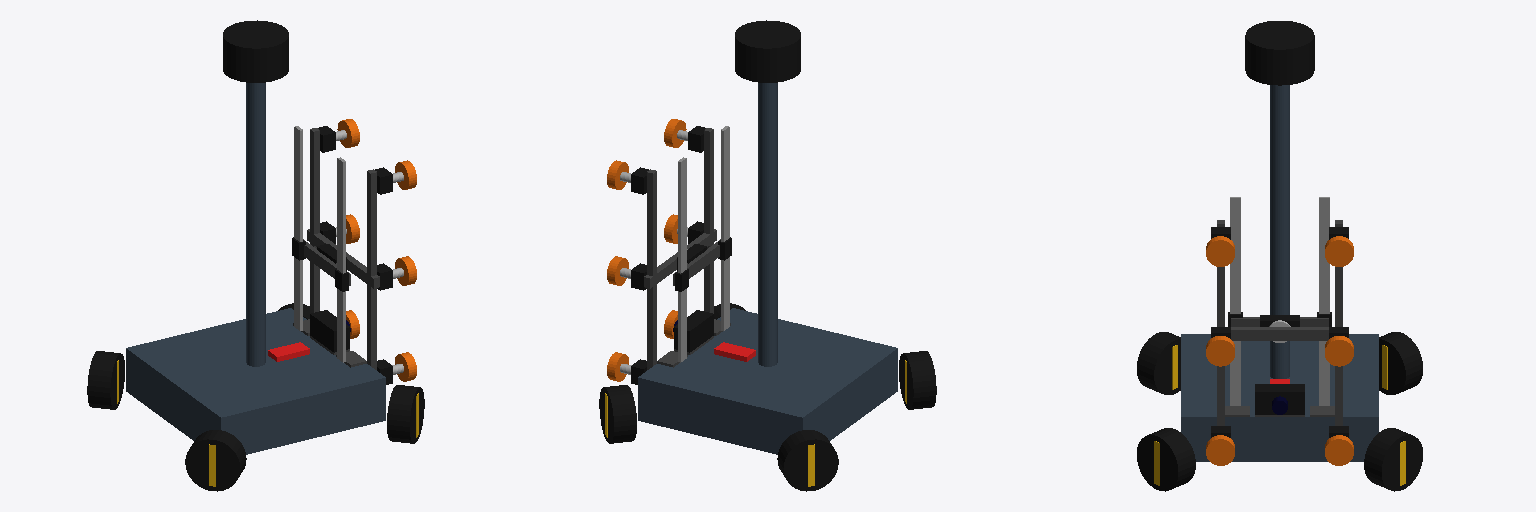
robot.urdf — robot_omni:
<?xml version="1.0"?>
<!-- Généré avec le monde SDF : mêmes noms de liens et d'articulations, mêmes cotes. Ne pas éditer à la main. -->
<robot name="robot_omni">
  <material name="gris"><color rgba="0.25 0.3 0.35 1"/></material>
  <material name="anthracite"><color rgba="0.3 0.3 0.3 1"/></material>
  <material name="noir"><color rgba="0.12 0.12 0.12 1"/></material>
  <material name="rouge"><color rgba="0.9 0.15 0.15 1"/></material>
  <material name="jaune"><color rgba="0.95 0.75 0.1 1"/></material>
  <material name="bleu_objectif"><color rgba="0.05 0.05 0.2 1"/></material>
  <material name="alu"><color rgba="0.6 0.6 0.6 1"/></material>
  <material name="gris_clair"><color rgba="0.7 0.7 0.7 1"/></material>
  <material name="orange"><color rgba="0.9 0.45 0.1 1"/></material>

  <!-- base_link : centre du robot au niveau du sol, x vers l'avant, y vers la gauche -->
  <link name="base_link"/>

  <link name="chassis">
    <visual><geometry><box size="0.2 0.2 0.05"/></geometry><material name="gris"/></visual>
    <visual><origin xyz="0.04 0 0.028"/><geometry><box size="0.04 0.02 0.006"/></geometry><material name="rouge"/></visual>
    <visual><origin xyz="0 0 0.205"/><geometry><cylinder radius="0.01" length="0.36"/></geometry><material name="gris"/></visual>
    <!-- Support caméra (plaque 3 mm) et boîtier posé dessus, au ras du châssis -->
    <visual><origin xyz="0.09 0 0.0265"/><geometry><box size="0.02 0.05 0.003"/></geometry><material name="anthracite"/></visual>
    <visual><origin xyz="0.09 0 0.0405"/><geometry><box size="0.02 0.05 0.025"/></geometry><material name="noir"/></visual>
    <visual><origin xyz="0.105 0 0.0405" rpy="0 1.5708 0"/><geometry><cylinder radius="0.008" length="0.01"/></geometry><material name="bleu_objectif"/></visual>
    <!-- Supports et rails verticaux de l'ascenseur (rails allongés : course 0 à 12 cm) -->
    <visual><origin xyz="0.09 0.045 0.0265"/><geometry><box size="0.02 0.03 0.003"/></geometry><material name="anthracite"/></visual>
    <visual><origin xyz="0.078 0.045 0.144"/><geometry><box size="0.004 0.012 0.232"/></geometry><material name="alu"/></visual>
    <visual><origin xyz="0.09 -0.045 0.0265"/><geometry><box size="0.02 0.03 0.003"/></geometry><material name="anthracite"/></visual>
    <visual><origin xyz="0.078 -0.045 0.144"/><geometry><box size="0.004 0.012 0.232"/></geometry><material name="alu"/></visual>
    <collision><geometry><box size="0.2 0.2 0.05"/></geometry></collision>
    <collision><origin xyz="0.09 0 0.039"/><geometry><box size="0.02 0.05 0.028"/></geometry></collision>
    <inertial><mass value="3"/><inertia ixx="0.010625" ixy="0" ixz="0" iyy="0.010625" iyz="0" izz="0.02"/></inertial>
  </link>
  <joint name="chassis_joint" type="fixed"><parent link="base_link"/><child link="chassis"/><origin xyz="0 0 0.045"/></joint>

  <!-- Ascenseur : chariot sur les rails + servo du poignet (repère = repère du châssis) -->
  <link name="ascenseur">
    <visual><origin xyz="0.078 0.045 0.121"/><geometry><box size="0.008 0.016 0.02"/></geometry><material name="noir"/></visual>
    <visual><origin xyz="0.078 -0.045 0.121"/><geometry><box size="0.008 0.016 0.02"/></geometry><material name="noir"/></visual>
    <visual><origin xyz="0.083 0 0.121"/><geometry><box size="0.006 0.1 0.014"/></geometry><material name="anthracite"/></visual>
    <visual><origin xyz="0.092 0 0.121"/><geometry><box size="0.014 0.04 0.022"/></geometry><material name="noir"/></visual>
    <inertial><origin xyz="0.088 0 0.121"/><mass value="0.2"/><inertia ixx="0.0002" ixy="0" ixz="0" iyy="0.0001" iyz="0" izz="0.0002"/></inertial>
  </link>
  <joint name="ascenseur_joint" type="prismatic"><parent link="chassis"/><child link="ascenseur"/><origin xyz="0 0 0"/><axis xyz="0 0 1"/><limit lower="0" upper="0.12" effort="50" velocity="0.1"/></joint>

  <!-- Poignet : plaque à 3 paires de ventouses (une par carton), tournée de 0 à 90° autour de l'axe avant du robot.
       Origine du lien = axe de rotation, au centre du carton du milieu (16.6 cm du sol, ascenseur en bas). -->
  <link name="poignet">
    <visual><origin xyz="-0.005 0 0" rpy="0 1.5708 0"/><geometry><cylinder radius="0.012" length="0.004"/></geometry><material name="gris_clair"/></visual>
    <visual><origin xyz="0 0 0"/><geometry><box size="0.008 0.14 0.012"/></geometry><material name="anthracite"/></visual>
    <visual><origin xyz="0 0.06 0"/><geometry><box size="0.008 0.008 0.25"/></geometry><material name="anthracite"/></visual>
    <visual><origin xyz="0 -0.06 0"/><geometry><box size="0.008 0.008 0.25"/></geometry><material name="anthracite"/></visual>
    <!-- Étage 1 : ventouse_1_g / ventouse_1_d -->
    <visual><origin xyz="0.012 0.06 -0.111"/><geometry><box size="0.016 0.02 0.02"/></geometry><material name="noir"/></visual>
    <visual><origin xyz="0.028 0.06 -0.111" rpy="0 1.5708 0"/><geometry><cylinder radius="0.005" length="0.016"/></geometry><material name="gris_clair"/></visual>
    <visual><origin xyz="0.041 0.06 -0.111" rpy="0 1.5708 0"/><geometry><cylinder radius="0.015" length="0.01"/></geometry><material name="orange"/></visual>
    <visual><origin xyz="0.012 -0.06 -0.111"/><geometry><box size="0.016 0.02 0.02"/></geometry><material name="noir"/></visual>
    <visual><origin xyz="0.028 -0.06 -0.111" rpy="0 1.5708 0"/><geometry><cylinder radius="0.005" length="0.016"/></geometry><material name="gris_clair"/></visual>
    <visual><origin xyz="0.041 -0.06 -0.111" rpy="0 1.5708 0"/><geometry><cylinder radius="0.015" length="0.01"/></geometry><material name="orange"/></visual>
    <!-- Étage 2 : ventouse_2_g / ventouse_2_d -->
    <visual><origin xyz="0.012 0.06 0"/><geometry><box size="0.016 0.02 0.02"/></geometry><material name="noir"/></visual>
    <visual><origin xyz="0.028 0.06 0" rpy="0 1.5708 0"/><geometry><cylinder radius="0.005" length="0.016"/></geometry><material name="gris_clair"/></visual>
    <visual><origin xyz="0.041 0.06 0" rpy="0 1.5708 0"/><geometry><cylinder radius="0.015" length="0.01"/></geometry><material name="orange"/></visual>
    <visual><origin xyz="0.012 -0.06 0"/><geometry><box size="0.016 0.02 0.02"/></geometry><material name="noir"/></visual>
    <visual><origin xyz="0.028 -0.06 0" rpy="0 1.5708 0"/><geometry><cylinder radius="0.005" length="0.016"/></geometry><material name="gris_clair"/></visual>
    <visual><origin xyz="0.041 -0.06 0" rpy="0 1.5708 0"/><geometry><cylinder radius="0.015" length="0.01"/></geometry><material name="orange"/></visual>
    <!-- Étage 3 : ventouse_3_g / ventouse_3_d -->
    <visual><origin xyz="0.012 0.06 0.111"/><geometry><box size="0.016 0.02 0.02"/></geometry><material name="noir"/></visual>
    <visual><origin xyz="0.028 0.06 0.111" rpy="0 1.5708 0"/><geometry><cylinder radius="0.005" length="0.016"/></geometry><material name="gris_clair"/></visual>
    <visual><origin xyz="0.041 0.06 0.111" rpy="0 1.5708 0"/><geometry><cylinder radius="0.015" length="0.01"/></geometry><material name="orange"/></visual>
    <visual><origin xyz="0.012 -0.06 0.111"/><geometry><box size="0.016 0.02 0.02"/></geometry><material name="noir"/></visual>
    <visual><origin xyz="0.028 -0.06 0.111" rpy="0 1.5708 0"/><geometry><cylinder radius="0.005" length="0.016"/></geometry><material name="gris_clair"/></visual>
    <visual><origin xyz="0.041 -0.06 0.111" rpy="0 1.5708 0"/><geometry><cylinder radius="0.015" length="0.01"/></geometry><material name="orange"/></visual>
    <collision><origin xyz="0.041 0.06 -0.111" rpy="0 1.5708 0"/><geometry><cylinder radius="0.015" length="0.01"/></geometry></collision>
    <collision><origin xyz="0.041 -0.06 -0.111" rpy="0 1.5708 0"/><geometry><cylinder radius="0.015" length="0.01"/></geometry></collision>
    <collision><origin xyz="0.041 0.06 0" rpy="0 1.5708 0"/><geometry><cylinder radius="0.015" length="0.01"/></geometry></collision>
    <collision><origin xyz="0.041 -0.06 0" rpy="0 1.5708 0"/><geometry><cylinder radius="0.015" length="0.01"/></geometry></collision>
    <collision><origin xyz="0.041 0.06 0.111" rpy="0 1.5708 0"/><geometry><cylinder radius="0.015" length="0.01"/></geometry></collision>
    <collision><origin xyz="0.041 -0.06 0.111" rpy="0 1.5708 0"/><geometry><cylinder radius="0.015" length="0.01"/></geometry></collision>
    <inertial><origin xyz="0.024 0 0"/><mass value="0.15"/><inertia ixx="0.0008" ixy="0" ixz="0" iyy="0.0008" iyz="0" izz="0.0002"/></inertial>
  </link>
  <joint name="poignet_joint" type="revolute"><parent link="ascenseur"/><child link="poignet"/><origin xyz="0.106 0 0.121"/><axis xyz="1 0 0"/><limit lower="0" upper="1.5708" effort="5" velocity="2"/></joint>

  <link name="roue_1"><visual><geometry><cylinder radius="0.03" length="0.025"/></geometry><material name="noir"/></visual><visual><geometry><box size="0.048 0.008 0.02625"/></geometry><material name="jaune"/></visual><collision><geometry><cylinder radius="0.03" length="0.025"/></geometry></collision><inertial><mass value="0.1"/><inertia ixx="2.77083e-05" ixy="0" ixz="0" iyy="2.77083e-05" iyz="0" izz="4.5e-05"/></inertial></link>
  <joint name="roue_1_joint" type="continuous"><parent link="base_link"/><child link="roue_1"/><origin xyz="0.115 0.115 0.03" rpy="0 1.5708 0.785398"/><axis xyz="0 0 -1"/></joint>

  <link name="roue_2"><visual><geometry><cylinder radius="0.03" length="0.025"/></geometry><material name="noir"/></visual><visual><geometry><box size="0.048 0.008 0.02625"/></geometry><material name="jaune"/></visual><collision><geometry><cylinder radius="0.03" length="0.025"/></geometry></collision><inertial><mass value="0.1"/><inertia ixx="2.77083e-05" ixy="0" ixz="0" iyy="2.77083e-05" iyz="0" izz="4.5e-05"/></inertial></link>
  <joint name="roue_2_joint" type="continuous"><parent link="base_link"/><child link="roue_2"/><origin xyz="-0.115 0.115 0.03" rpy="0 1.5708 2.35619"/><axis xyz="0 0 -1"/></joint>

  <link name="roue_3"><visual><geometry><cylinder radius="0.03" length="0.025"/></geometry><material name="noir"/></visual><visual><geometry><box size="0.048 0.008 0.02625"/></geometry><material name="jaune"/></visual><collision><geometry><cylinder radius="0.03" length="0.025"/></geometry></collision><inertial><mass value="0.1"/><inertia ixx="2.77083e-05" ixy="0" ixz="0" iyy="2.77083e-05" iyz="0" izz="4.5e-05"/></inertial></link>
  <joint name="roue_3_joint" type="continuous"><parent link="base_link"/><child link="roue_3"/><origin xyz="-0.115 -0.115 0.03" rpy="0 1.5708 3.92699"/><axis xyz="0 0 -1"/></joint>

  <link name="roue_4"><visual><geometry><cylinder radius="0.03" length="0.025"/></geometry><material name="noir"/></visual><visual><geometry><box size="0.048 0.008 0.02625"/></geometry><material name="jaune"/></visual><collision><geometry><cylinder radius="0.03" length="0.025"/></geometry></collision><inertial><mass value="0.1"/><inertia ixx="2.77083e-05" ixy="0" ixz="0" iyy="2.77083e-05" iyz="0" izz="4.5e-05"/></inertial></link>
  <joint name="roue_4_joint" type="continuous"><parent link="base_link"/><child link="roue_4"/><origin xyz="0.115 -0.115 0.03" rpy="0 1.5708 5.49779"/><axis xyz="0 0 -1"/></joint>

  <link name="lidar"><visual><geometry><cylinder radius="0.035" length="0.04"/></geometry><material name="noir"/></visual></link>
  <joint name="lidar_joint" type="fixed"><parent link="base_link"/><child link="lidar"/><origin xyz="0 0 0.43"/></joint>

  <link name="imu"/>
  <joint name="imu_joint" type="fixed"><parent link="base_link"/><child link="imu"/><origin xyz="0 0 0.045"/></joint>

  <link name="camera"/>
  <joint name="camera_joint" type="fixed"><parent link="base_link"/><child link="camera"/><origin xyz="0.11 0 0.0855" rpy="0 0 0"/></joint>

  <link name="camera_optical"/>
  <joint name="camera_optical_joint" type="fixed"><parent link="camera"/><child link="camera_optical"/><origin xyz="0 0 0" rpy="-1.5708 0 -1.5708"/></joint>

</robot>

--- Facts derived from the render (not from the file) ---
Views: 3 orthographic renders of the robot side by side, from view 1: azimuth 30°, elevation 25°; view 2: azimuth 150°, elevation 25°; view 3: azimuth 270°, elevation 25°.
Model robot_omni with 12 links and 11 joints (1 revolute, 4 continuous, 1 prismatic, 5 fixed), rooted at base_link, posed all joints at 0.
Visible links, largest first — view 1: chassis, poignet, lidar, roue_3, roue_2, roue_4, ascenseur; view 2: chassis, poignet, lidar, roue_2, roue_3, roue_1, ascenseur; view 3: chassis, poignet, lidar, roue_1, roue_4, roue_2, roue_3, ascenseur.
Link boxes in pixels (x1,y1,x2,y2): chassis: (126, 83, 385, 454); poignet: (307, 119, 416, 384); lidar: (223, 20, 288, 82); roue_3: (185, 430, 246, 491); roue_2: (87, 351, 124, 409); roue_4: (387, 385, 424, 443); ascenseur: (292, 237, 350, 291); chassis: (638, 83, 897, 454); poignet: (607, 119, 716, 384); lidar: (735, 20, 800, 82); roue_2: (777, 430, 838, 491); roue_3: (899, 351, 936, 409); roue_1: (599, 385, 636, 443); ascenseur: (673, 237, 731, 291); chassis: (1181, 85, 1378, 461); poignet: (1206, 220, 1353, 465); lidar: (1245, 21, 1314, 85); roue_1: (1364, 428, 1422, 491); roue_4: (1137, 428, 1195, 491); roue_2: (1379, 332, 1422, 394); roue_3: (1137, 332, 1180, 394); ascenseur: (1228, 312, 1331, 326).
Bounding box of the posed robot: 0.2971 × 0.2901 × 0.45 m (x, y, z).
Geometry: primitives only (box / cylinder / sphere), no mesh files.
